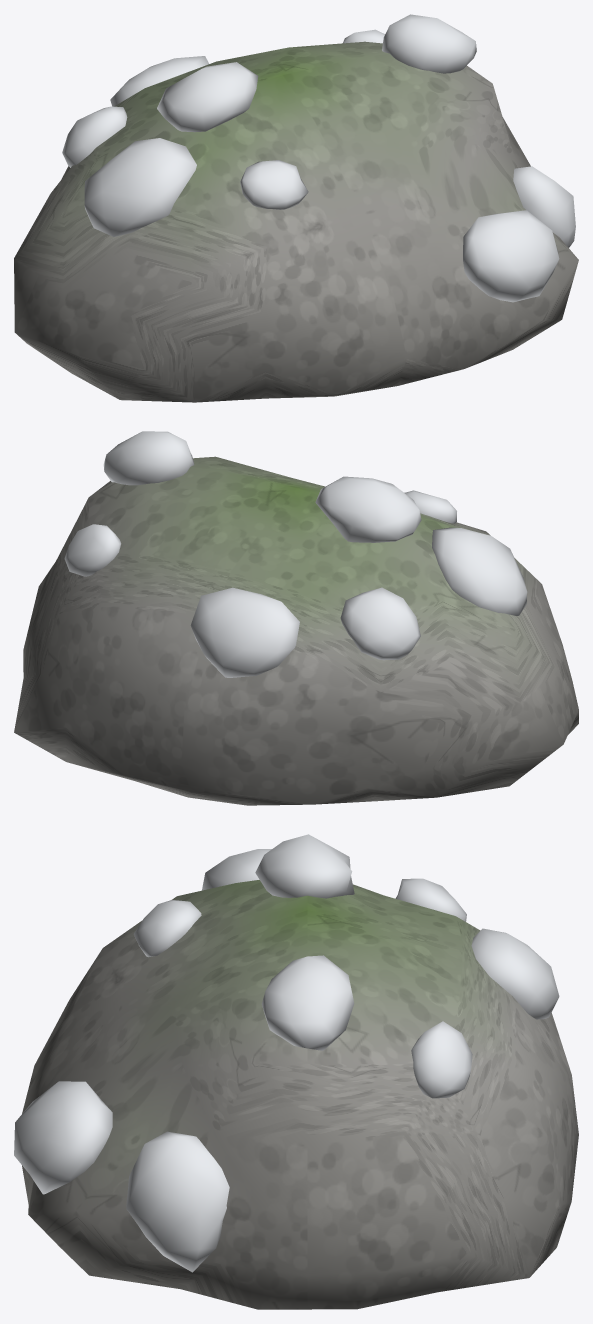
File: ore_silver_boulder.glb
The picture shows the model from 3 angles, top to bottom: view 1: azimuth 30°, elevation 25°; view 2: azimuth 150°, elevation 25°; view 3: azimuth 270°, elevation 25°; orthographic projection. The views are drawn at different scales.
Visible parts, largest first — view 1: ore_silver_stone, ore_silver; view 2: ore_silver_stone, ore_silver; view 3: ore_silver_stone, ore_silver.
Part boxes in pixels (box(x1,y1,x2,y2)): ore_silver_stone: box(14, 41, 578, 402); ore_silver: box(62, 14, 575, 302); ore_silver_stone: box(14, 456, 578, 805); ore_silver: box(64, 431, 527, 677); ore_silver_stone: box(22, 880, 578, 1309); ore_silver: box(14, 834, 559, 1272).
Size of the model in its own units: 2.3 by 1.12 by 1.87.
Materials: 2 (1 with a texture image).
